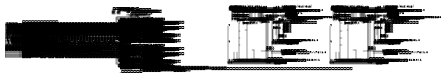corridor: (155, 60, 162, 63), (155, 40, 162, 42), (155, 29, 162, 31), (155, 9, 162, 11)
room: (137, 68, 153, 76), (303, 35, 319, 37), (418, 35, 434, 37), (432, 67, 442, 70), (317, 67, 326, 70), (142, 60, 148, 64), (142, 53, 148, 57), (155, 60, 162, 63), (130, 45, 136, 48), (130, 14, 136, 17), (313, 22, 316, 27), (428, 22, 431, 27), (156, 53, 161, 56), (156, 46, 161, 49), (156, 22, 161, 25), (155, 40, 162, 42), (155, 29, 162, 31), (155, 9, 162, 11), (130, 39, 136, 41), (130, 8, 136, 10), (131, 60, 136, 62), (131, 54, 136, 56), (131, 29, 136, 31), (131, 23, 136, 25), (156, 15, 161, 17), (144, 60, 147, 61), (144, 54, 147, 55), (121, 74, 124, 75), (127, 74, 130, 75), (132, 60, 134, 61), (158, 60, 160, 61), (158, 40, 160, 41), (132, 39, 134, 40), (132, 54, 134, 55), (132, 29, 134, 30), (132, 14, 134, 15), (132, 8, 134, 9), (132, 23, 134, 24), (157, 53, 159, 54), (157, 46, 159, 47), (158, 29, 160, 30), (157, 22, 159, 23), (157, 15, 159, 16), (158, 9, 160, 10), (319, 64, 320, 65), (322, 64, 323, 65), (434, 64, 435, 65), (437, 64, 438, 65), (132, 46, 134, 46)
wall: (252, 11, 306, 14), (367, 11, 421, 14), (282, 75, 316, 78), (397, 75, 431, 78), (254, 75, 281, 78), (369, 75, 396, 78), (303, 35, 319, 37), (418, 35, 434, 37), (259, 67, 260, 68), (268, 63, 269, 64), (258, 67, 259, 68), (282, 63, 283, 64), (288, 63, 289, 64), (297, 16, 298, 17), (383, 63, 384, 64), (373, 67, 374, 68), (397, 63, 398, 64), (401, 63, 402, 64), (403, 63, 404, 64), (412, 16, 413, 17), (306, 59, 307, 60), (421, 59, 422, 60), (257, 67, 257, 68), (276, 63, 276, 64), (292, 67, 293, 67), (286, 63, 286, 64), (306, 67, 307, 67), (325, 64, 326, 64), (372, 67, 372, 68), (375, 67, 375, 68), (391, 63, 391, 64), (407, 67, 408, 67), (421, 67, 422, 67), (440, 64, 441, 64)
